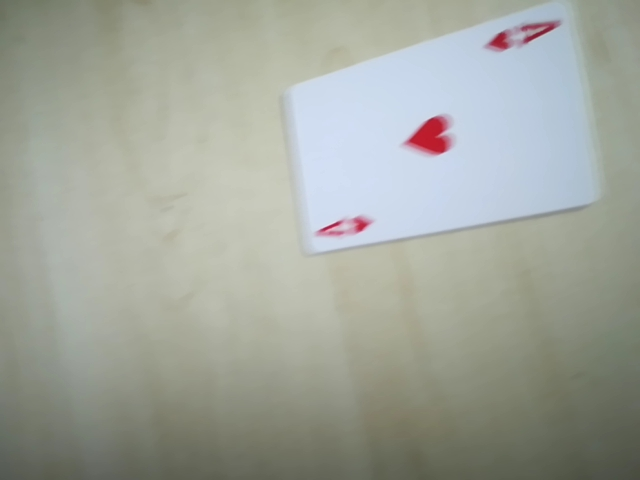hx a: (479, 9, 566, 61), (308, 206, 383, 248)
